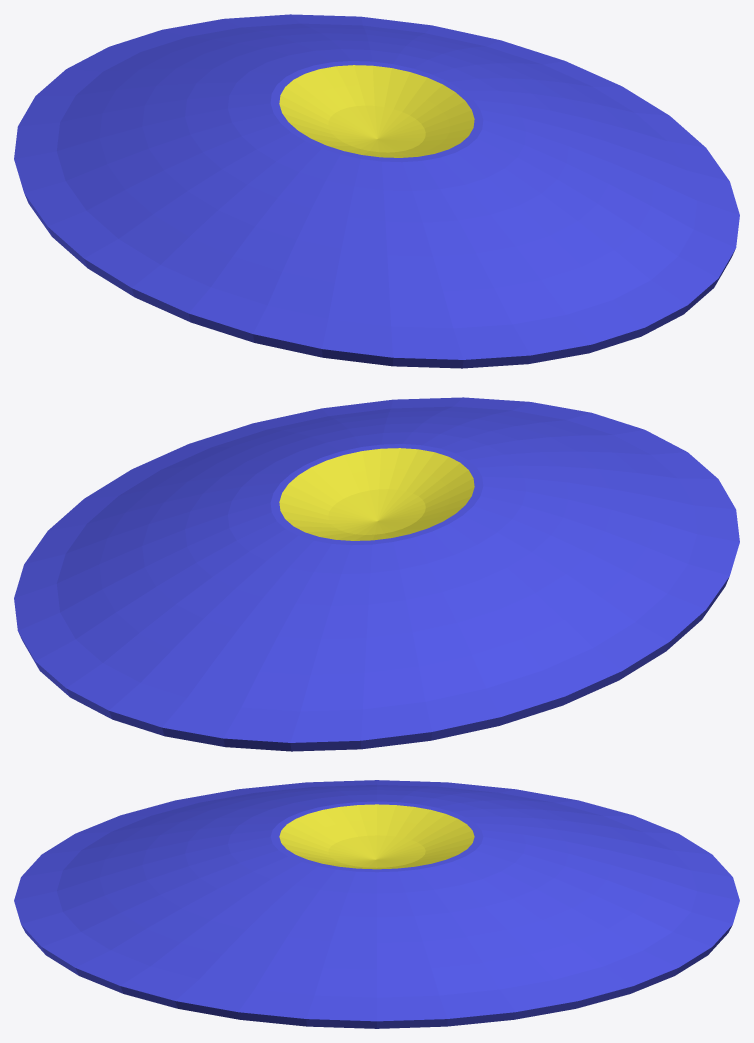
File: GreatShield.fbx
3 renders of one model, top to bottom at view 1: azimuth 30°, elevation 25°; view 2: azimuth 150°, elevation 25°; view 3: azimuth 270°, elevation 25°, orthographic. The views are drawn at different scales.
Visible parts, largest first — view 1: Shield_mesh; view 2: Shield_mesh; view 3: Shield_mesh.
Boxes of the visible parts, box(x1,y1,x2,y2) form: Shield_mesh: box(14, 14, 739, 368); Shield_mesh: box(14, 397, 739, 751); Shield_mesh: box(14, 780, 739, 1028).
Bounding box in the file's own units: 129 × 18.19 × 164.
